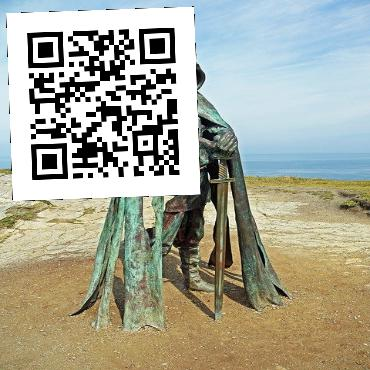qr_code: (6, 6, 200, 200)
